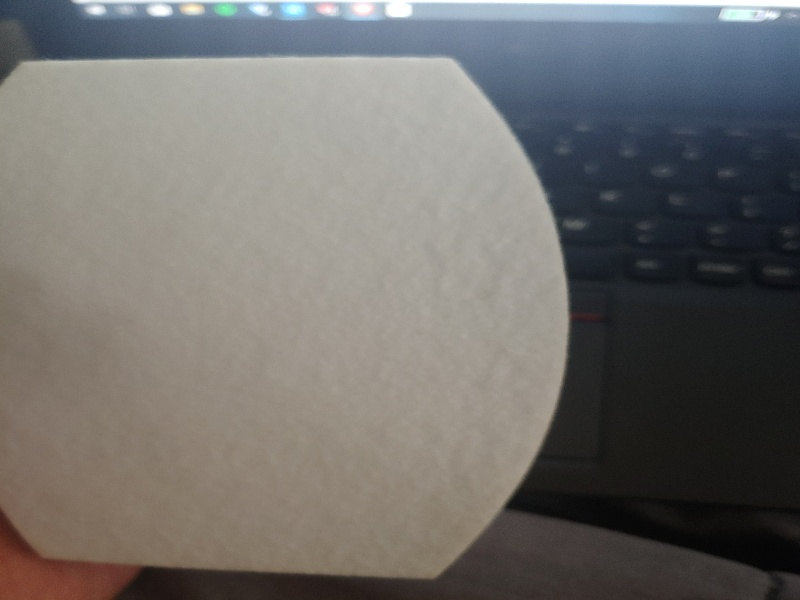Filter: (1, 55, 570, 580)
